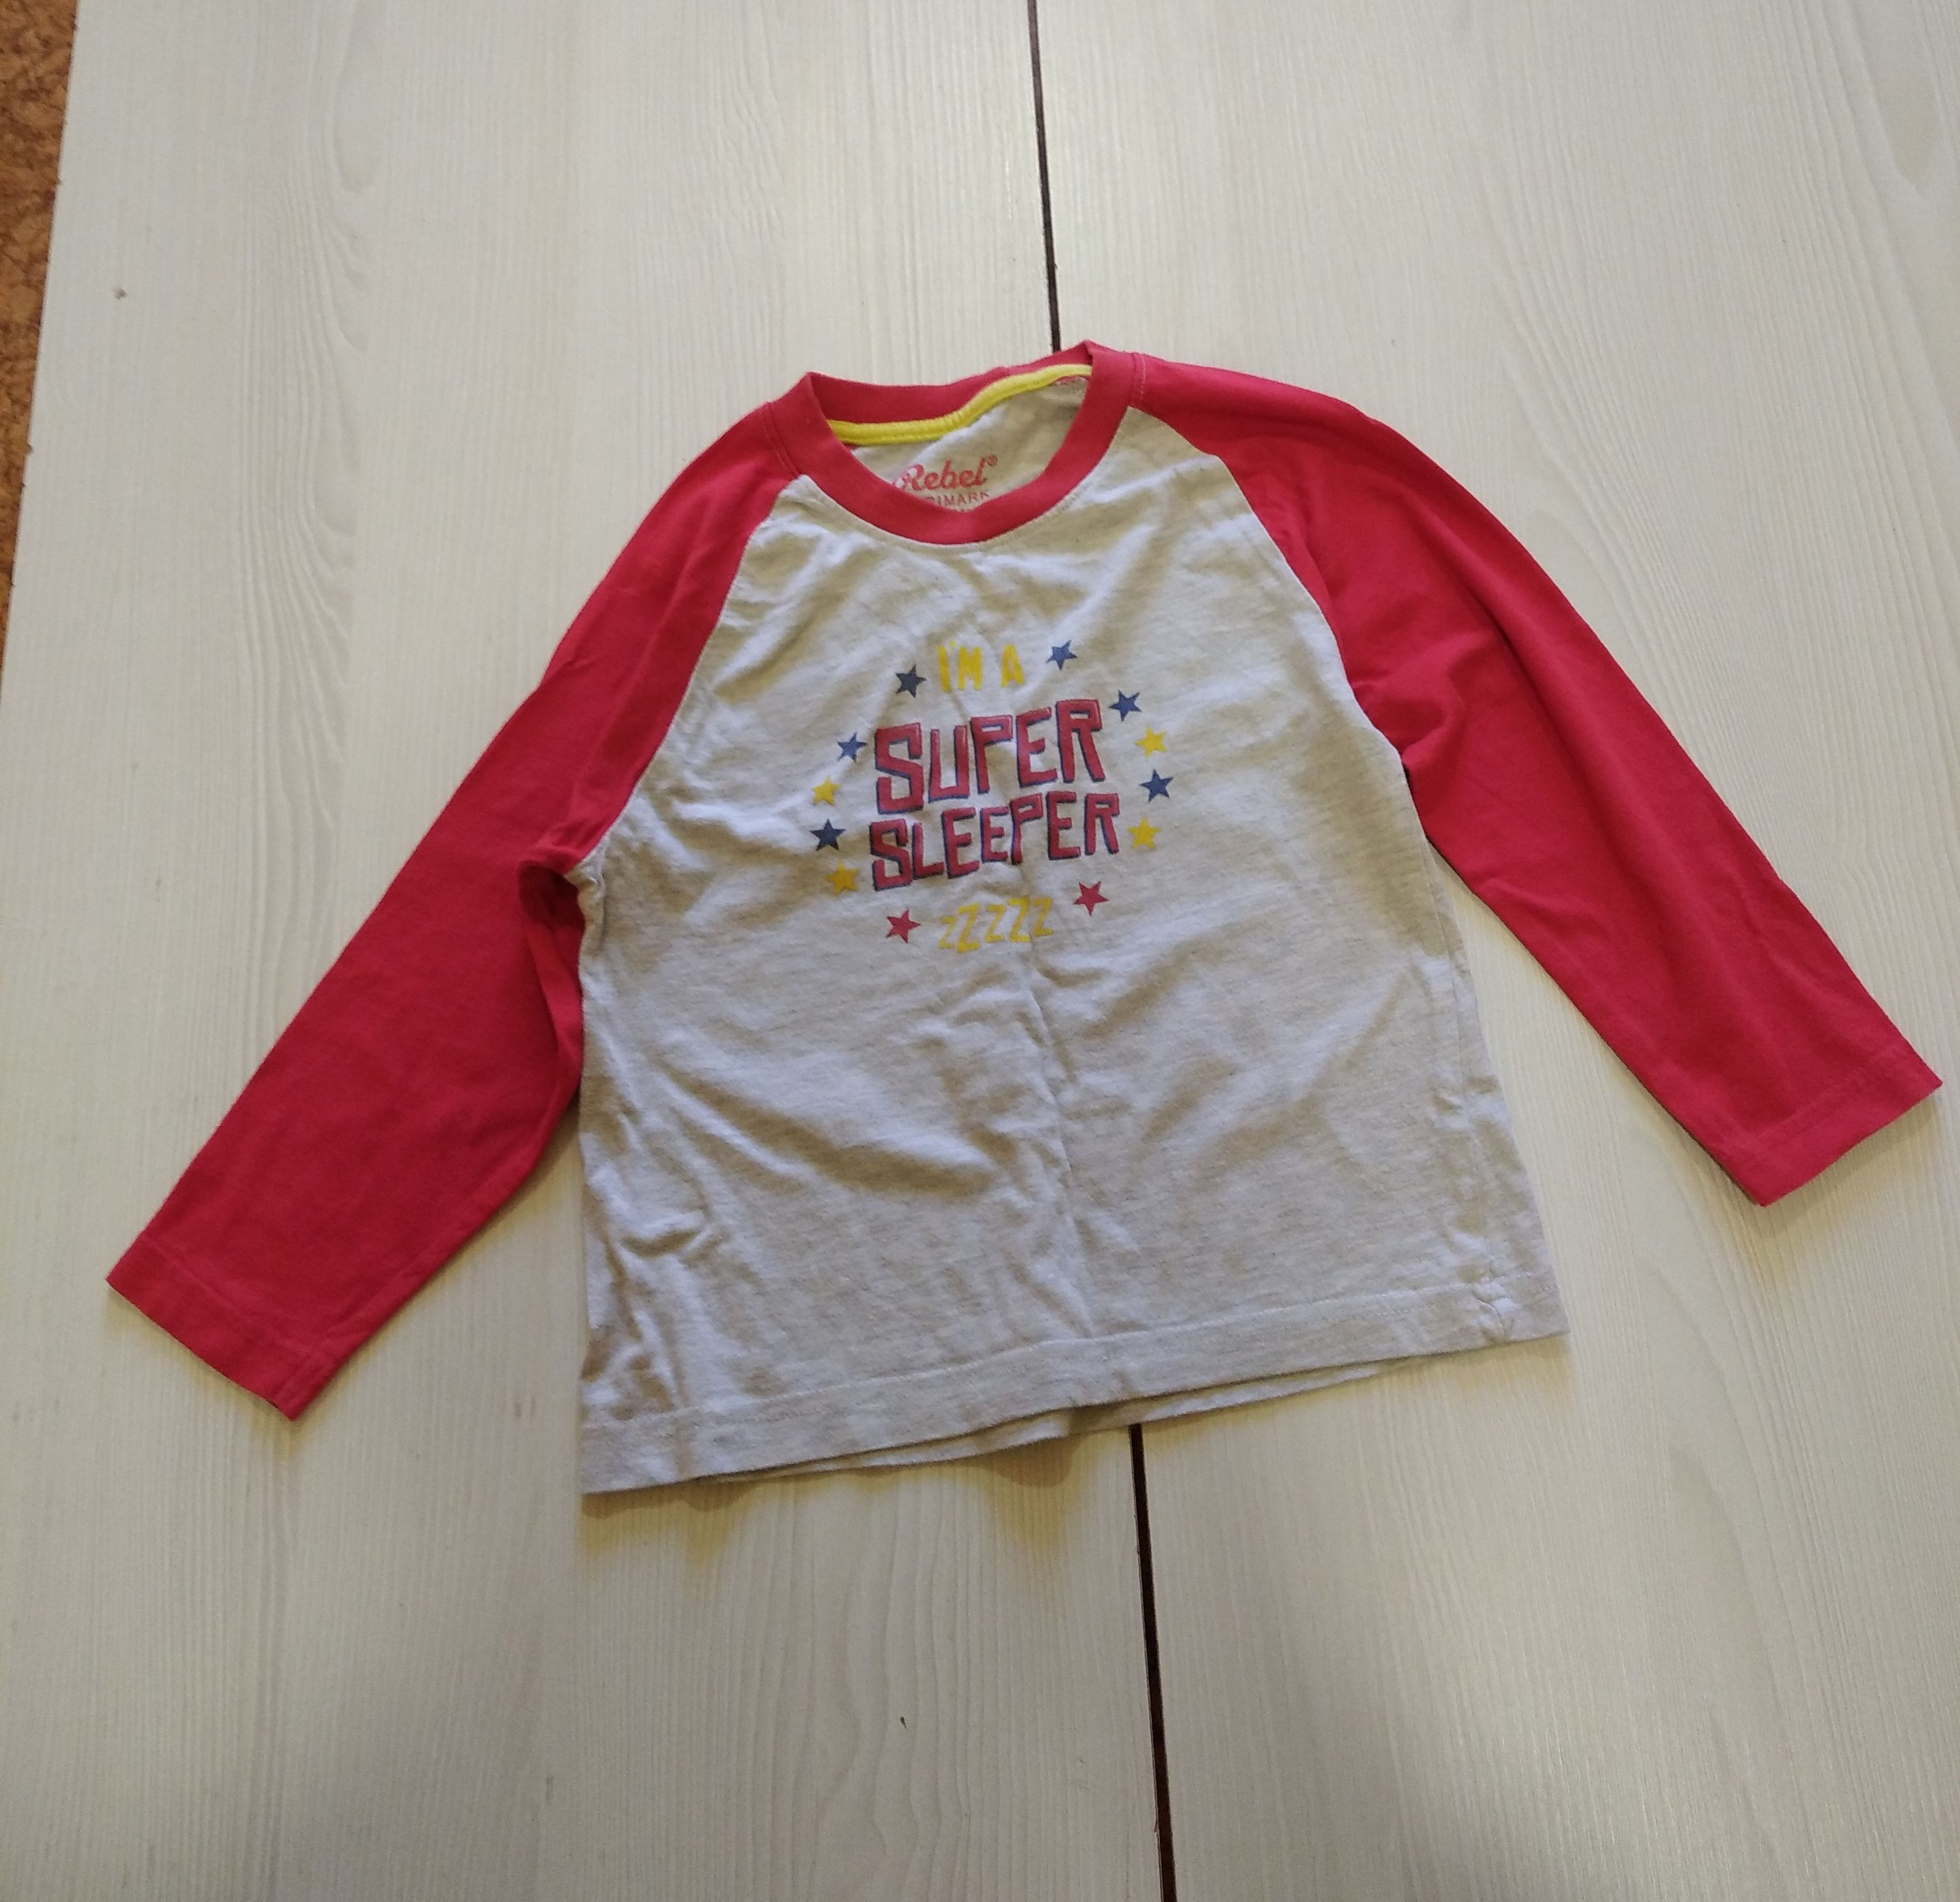clothes: (89, 345, 1939, 1536)
